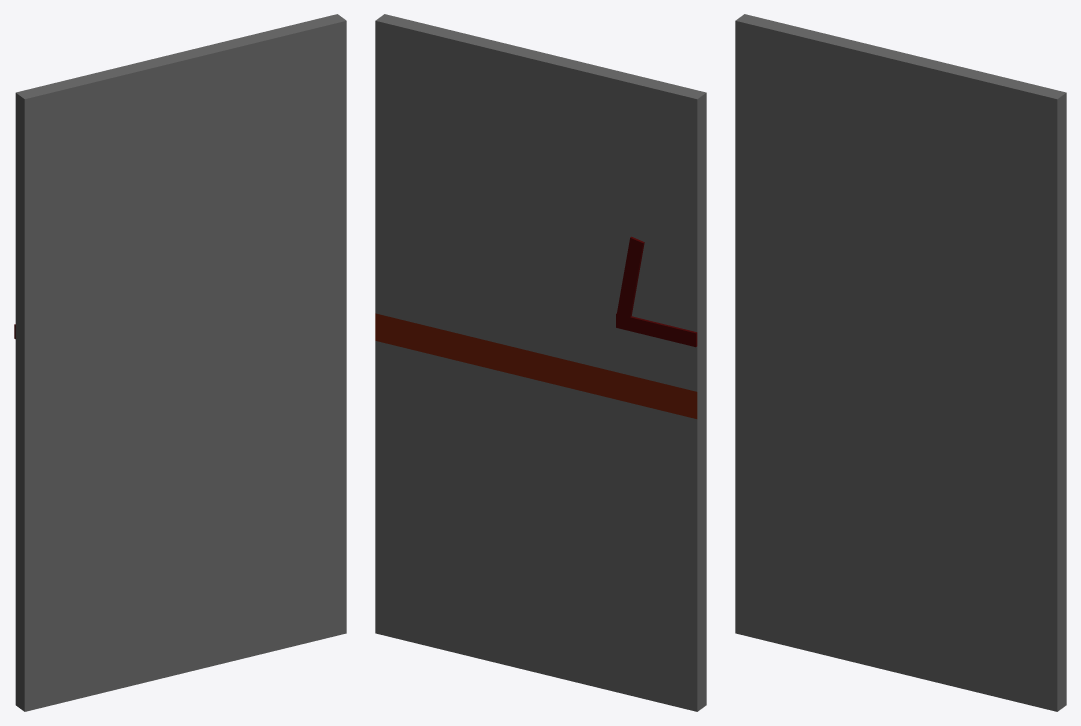
Rendered from porte_coulissante_01.FBX.
The picture shows the model from 3 angles, left to right: view 1: azimuth 30°, elevation 25°; view 2: azimuth 150°, elevation 25°; view 3: azimuth 330°, elevation 25°; orthographic projection.
Visible parts, largest first — view 1: Box009; view 2: Box009, Box008; view 3: Box009.
Part boxes in pixels (left/top/right/bottom): Box009: left=15, top=14, right=346, bottom=711; Box009: left=375, top=14, right=706, bottom=711; Box008: left=616, top=236, right=697, bottom=347; Box009: left=735, top=14, right=1066, bottom=711.
Bounding box in the file's own units: 1.1 × 2 × 0.063.
